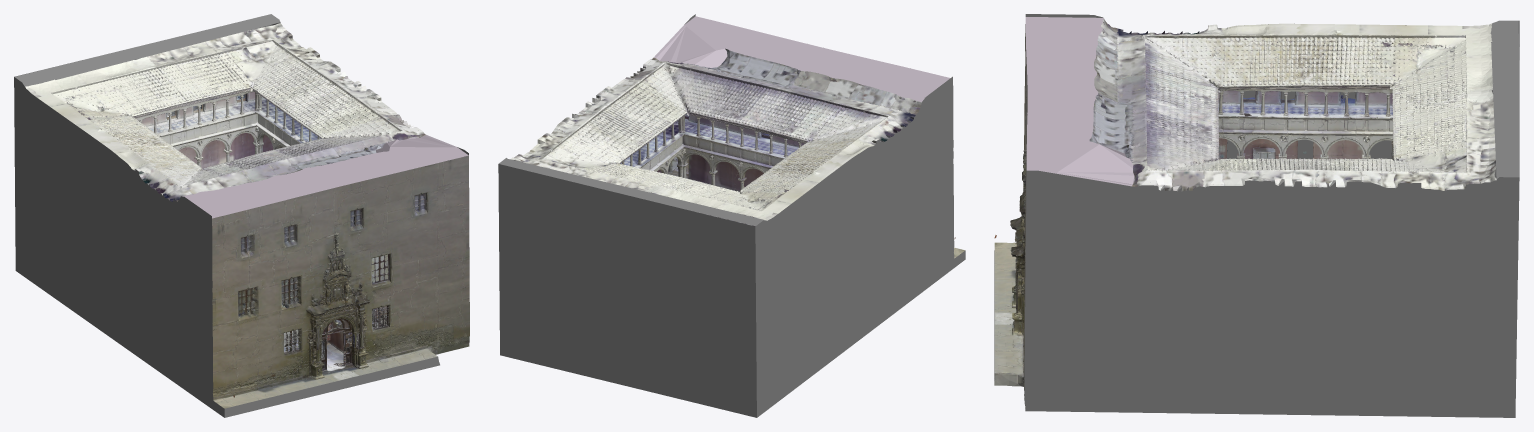
3 renders of one model, left to right at view 1: azimuth 30°, elevation 25°; view 2: azimuth 150°, elevation 25°; view 3: azimuth 270°, elevation 25°, orthographic. The views are drawn at different scales.
Visible parts, largest first — view 1: Object_48, Object_2, Object_6, Object_50, Object_40, Object_7, Object_32, Object_26, Object_11, Object_14, Object_5, Object_29 (+29 smaller); view 2: Object_48, Object_50, Object_2, Object_44, Object_45, Object_25, Object_36, Object_16, Object_11, Object_41, Object_14, Object_6 (+18 smaller); view 3: Object_48, Object_50, Object_2, Object_45, Object_44, Object_28, Object_18, Object_43, Object_12, Object_11, Object_14, Object_8 (+24 smaller).
Boxes of the visible parts, x1,y1,x2,y2 form: Object_48: (14,14,469,417); Object_2: (25,23,469,408); Object_6: (242,107,437,341); Object_50: (182,135,468,218); Object_40: (212,141,335,290); Object_7: (293,213,387,331); Object_32: (215,138,302,406); Object_26: (327,255,438,378); Object_11: (226,46,402,370); Object_14: (170,133,466,237); Object_5: (214,107,312,299); Object_29: (215,63,467,405); Object_48: (498,14,965,417); Object_50: (654,16,950,102); Object_2: (510,48,964,258); Object_44: (754,85,912,149); Object_45: (720,79,849,161); Object_25: (607,87,713,194); Object_36: (703,103,763,187); Object_16: (657,63,741,137); Object_11: (531,129,623,171); Object_41: (583,91,667,159); Object_14: (655,59,878,143); Object_6: (622,50,800,163); Object_48: (994,14,1519,417); Object_50: (1025,17,1134,186); Object_2: (994,18,1496,408); Object_45: (1116,44,1292,140); Object_44: (1116,26,1357,158); Object_28: (1205,40,1418,184); Object_18: (1222,38,1442,123); Object_43: (1319,45,1494,157); Object_12: (997,109,1288,348); Object_11: (995,145,1447,351); Object_14: (1025,47,1227,261); Object_8: (1024,137,1495,188).
Size of the model in its own units: 28.15 by 20.74 by 39.9.
3 materials, 1 textured.
